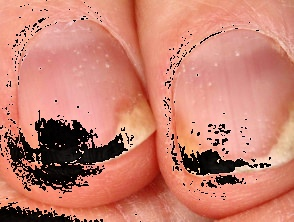Nail_psoriasis: (0, 0, 172, 202), (155, 0, 294, 197)
